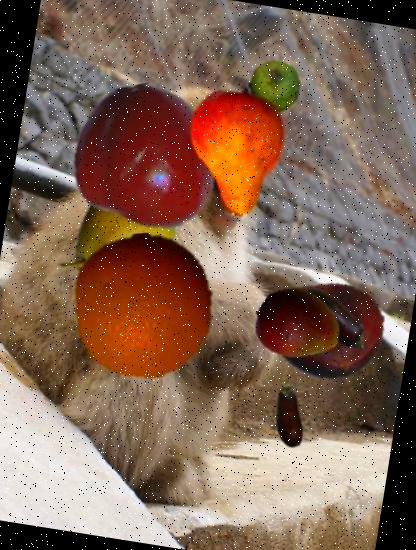Cherry: (59, 75, 227, 243)
Chestnut: (264, 267, 394, 396)
Eggplant: (284, 269, 386, 371), (248, 375, 328, 455)
Limes: (243, 56, 305, 118)
Mango: (250, 278, 346, 374)
Orange: (61, 223, 227, 389)
Pear: (162, 78, 310, 226), (47, 167, 192, 312)
